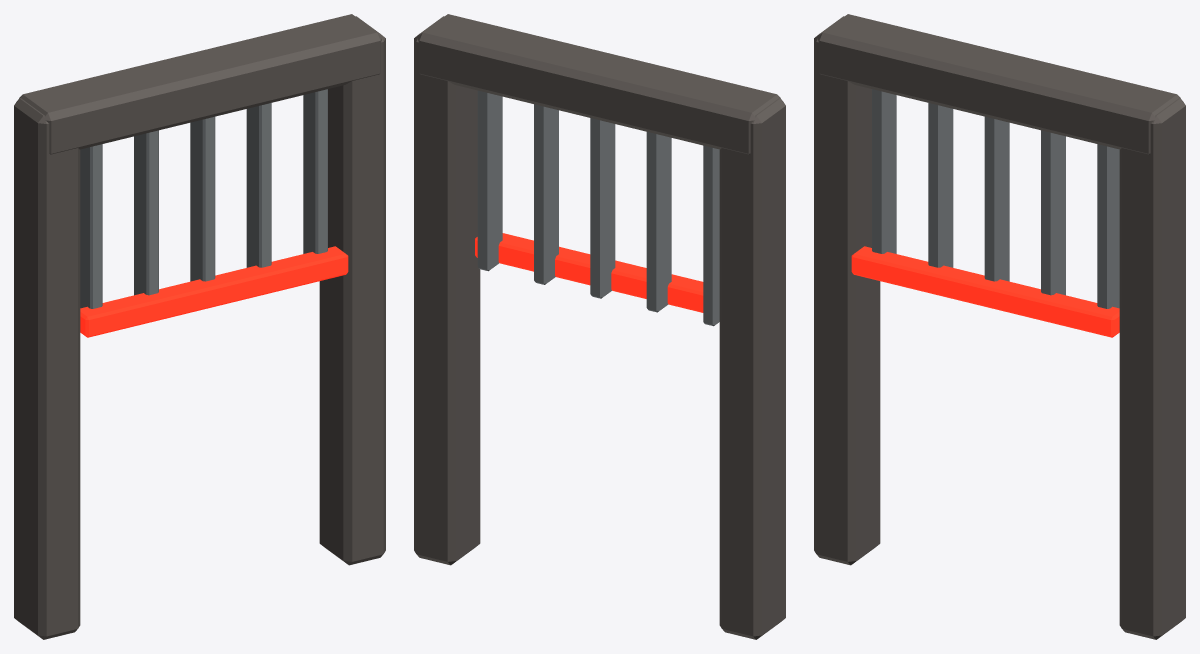
The model's file is portcullis_gate.glb.
3 renders of one model, left to right at view 1: azimuth 30°, elevation 25°; view 2: azimuth 150°, elevation 25°; view 3: azimuth 330°, elevation 25°, orthographic.
Parts seen in each view (by area): view 1: GEO_iron, ANIM_gate_warning_crossbar, ANIM_gate_bar_2, ANIM_gate_bar_3, ANIM_gate_bar_1, ANIM_gate_bar_4, ANIM_gate_bar_0; view 2: GEO_iron, ANIM_gate_warning_crossbar, ANIM_gate_bar_1, ANIM_gate_bar_4, ANIM_gate_bar_2, ANIM_gate_bar_3, ANIM_gate_bar_0; view 3: GEO_iron, ANIM_gate_warning_crossbar, ANIM_gate_bar_1, ANIM_gate_bar_2, ANIM_gate_bar_3, ANIM_gate_bar_0, ANIM_gate_bar_4.
Part boxes in pixels (box(x1,y1,x2,y2)): GEO_iron: box(14, 14, 385, 639); ANIM_gate_warning_crossbar: box(80, 246, 348, 337); ANIM_gate_bar_2: box(190, 116, 215, 281); ANIM_gate_bar_3: box(246, 103, 271, 267); ANIM_gate_bar_1: box(134, 130, 158, 295); ANIM_gate_bar_4: box(303, 89, 327, 253); ANIM_gate_bar_0: box(80, 144, 102, 308); GEO_iron: box(414, 14, 785, 639); ANIM_gate_warning_crossbar: box(475, 233, 703, 312); ANIM_gate_bar_1: box(646, 132, 671, 312); ANIM_gate_bar_4: box(477, 90, 502, 271); ANIM_gate_bar_2: box(590, 118, 615, 298); ANIM_gate_bar_3: box(534, 104, 558, 284); ANIM_gate_bar_0: box(703, 145, 719, 326); GEO_iron: box(814, 14, 1185, 639); ANIM_gate_warning_crossbar: box(851, 246, 1119, 337); ANIM_gate_bar_1: box(928, 103, 953, 267); ANIM_gate_bar_2: box(984, 116, 1009, 281); ANIM_gate_bar_3: box(1041, 130, 1065, 295); ANIM_gate_bar_0: box(872, 89, 896, 253); ANIM_gate_bar_4: box(1097, 144, 1119, 308).
Size of the model in its own units: 2.78 by 4.02 by 0.47.
